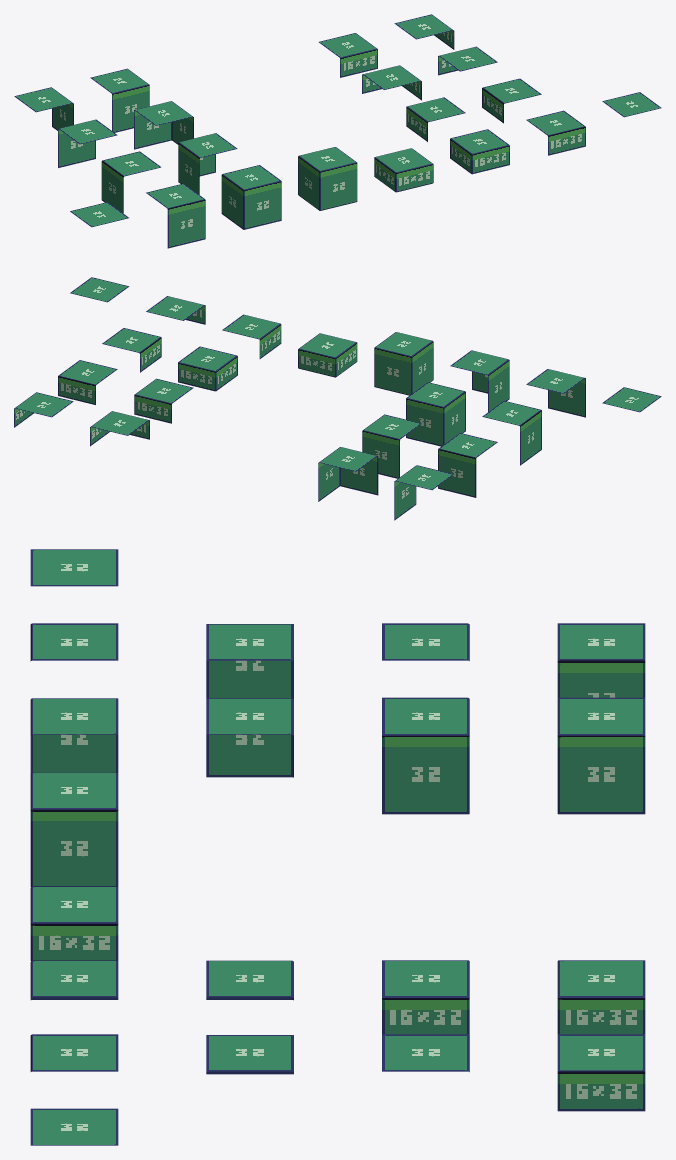
Rendered from Cubes.glb.
The picture shows the model from 3 angles, top to bottom: view 1: azimuth 30°, elevation 25°; view 2: azimuth 150°, elevation 25°; view 3: azimuth 270°, elevation 25°; orthographic projection. The views are drawn at different scales.
Visible parts, largest first — view 1: cube_corner-col, cube-col, cube_side-col, cube_corner3-col, cube_corner4-col, cube_half_corner-col, cube_half-col, cube_corner2-col, cube_side3-col, cube_side2-col, cube_half_side-col, cube_half_corner4-col (+8 smaller); view 2: cube-col, cube_corner2-col, cube_corner4-col, cube_side3-col, cube_corner3-col, cube_half_corner2-col, cube_half-col, cube_corner-col, cube_side-col, cube_side2-col, cube_half_side3-col, cube_half_corner3-col (+8 smaller); view 3: cube_corner4-col, cube_corner3-col, cube-col, cube_corner2-col, cube_half_side4-col, cube_corner-col, cube_side4-col, cube_half-col, cube_half_corner4-col, cube_side2-col, cube_half_corner3-col, cube_half_corner-col (+8 smaller).
Boxes of the visible parts, x1,y1,x2,y2 form: cube_corner-col: (221,165,281,229); cube-col: (298,147,357,210); cube_side-col: (146,183,205,248); cube_corner3-col: (134,101,193,149); cube_corner4-col: (90,68,149,132); cube_half_corner-col: (450,129,509,174); cube_half-col: (374,148,433,192); cube_corner2-col: (178,133,237,194); cube_side3-col: (58,119,117,167); cube_side2-col: (101,151,161,213); cube_half_side-col: (526,110,585,155); cube_half_corner4-col: (318,33,377,77); cube-col: (374,332,433,395); cube_corner2-col: (406,382,465,446); cube_corner4-col: (318,447,378,501); cube_side3-col: (438,433,497,497); cube_corner3-col: (362,414,421,478); cube_half_corner2-col: (178,346,237,391); cube_half-col: (298,333,357,377); cube_corner-col: (450,350,509,411); cube_side-col: (526,369,585,417); cube_side2-col: (482,401,541,465); cube_half_side3-col: (58,360,117,404); cube_half_corner3-col: (134,378,193,423); cube_corner4-col: (557,697,645,814); cube_corner3-col: (382,697,469,814); cube-col: (30,772,118,886); cube_corner2-col: (206,698,293,777); cube_half_side4-col: (557,1034,645,1111); cube_corner-col: (30,698,118,773); cube_side4-col: (557,623,645,697); cube_half-col: (30,886,118,960); cube_half_corner4-col: (557,960,645,1034); cube_side2-col: (206,624,293,698); cube_half_corner3-col: (382,960,469,1034); cube_half_corner-col: (30,960,118,999).
Bounding box in the file's own units: 15 × 1 × 7.
1 material, 1 textured.
